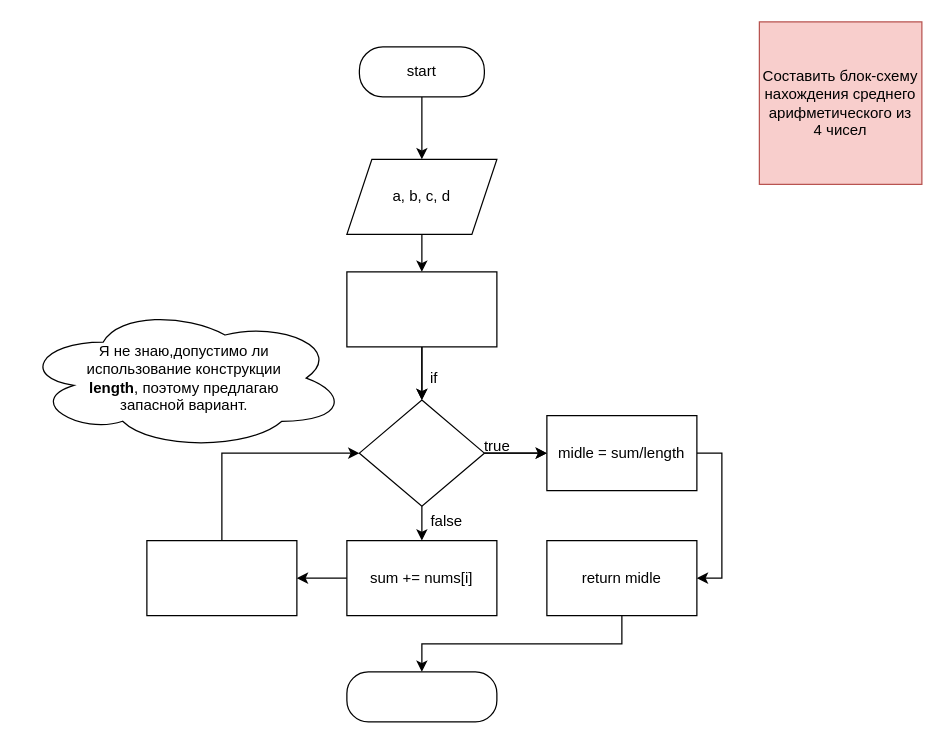
Some shapes in this 944 by 744 pixel diagram are drawn without their labels. Here are the shapes that lost their labels. From the top down, the box of each, then its label:
(346, 271, 497, 347): nums = [a, b, c, d] i = 0 # length = 4 (?) sum = 0
(358, 399, 484, 506): # i == length nums[i]==null
(146, 539, 297, 616): i += 1
(346, 671, 497, 722): end
